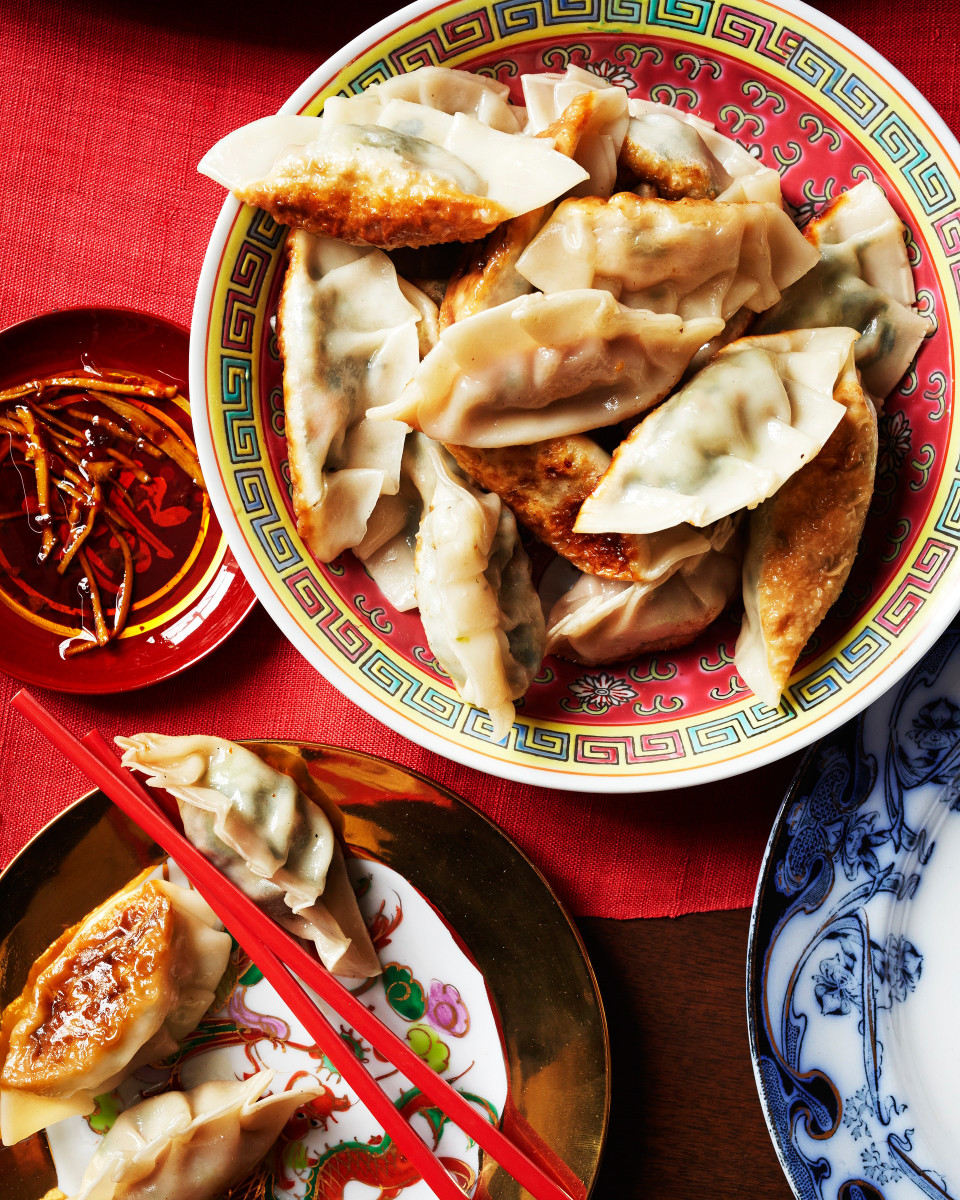fried_dumplings: (277, 267, 411, 557), (33, 899, 209, 1085), (162, 732, 350, 899), (258, 116, 521, 233), (439, 298, 692, 414), (644, 356, 817, 517), (417, 497, 537, 729), (566, 206, 800, 315), (494, 433, 656, 568), (606, 97, 771, 215), (798, 221, 921, 373), (784, 443, 870, 646), (112, 1092, 289, 1174), (512, 87, 638, 194), (574, 575, 717, 657), (366, 81, 526, 139)
